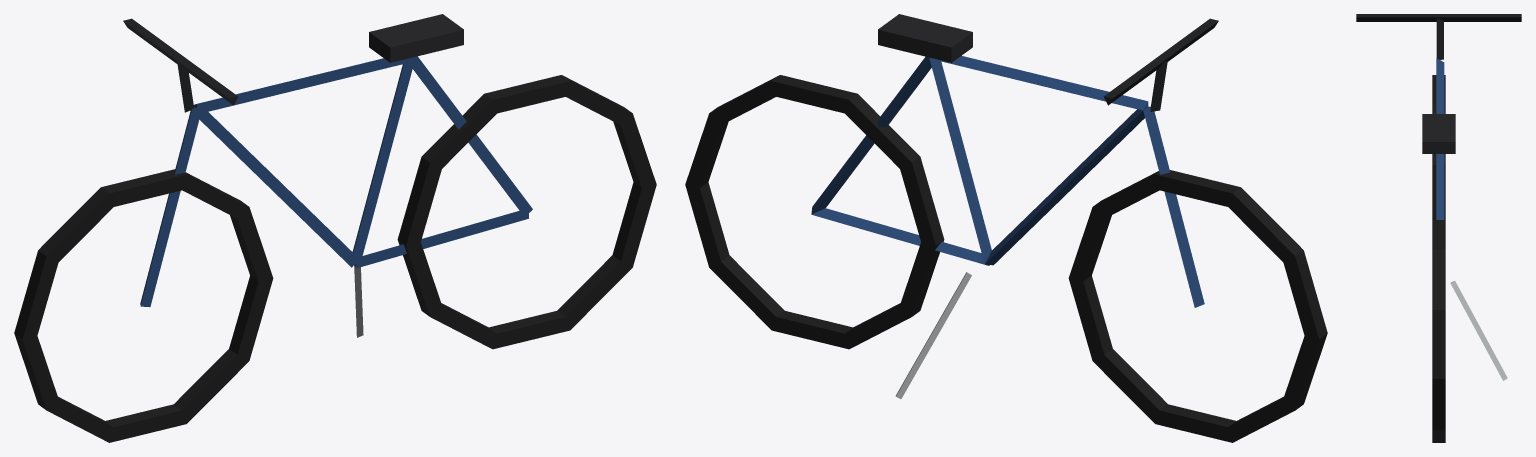
The model's file is bicycle.glb.
3 renders of one model, left to right at view 1: azimuth 30°, elevation 25°; view 2: azimuth 150°, elevation 25°; view 3: azimuth 270°, elevation 25°, orthographic. The views are drawn at different scales.
Visible parts, largest first — view 1: bicycle; view 2: bicycle; view 3: bicycle.
Part boxes in pixels (bbox=[...]): bicycle: bbox=[14, 14, 656, 442]; bicycle: bbox=[685, 14, 1327, 442]; bicycle: bbox=[1356, 14, 1521, 442].
Size of the model in its own units: 1.72 by 0.9417 by 0.5.
1 material, 1 textured.
